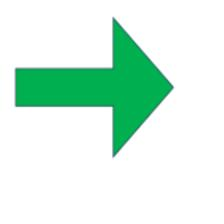right: (12, 10, 180, 169)
